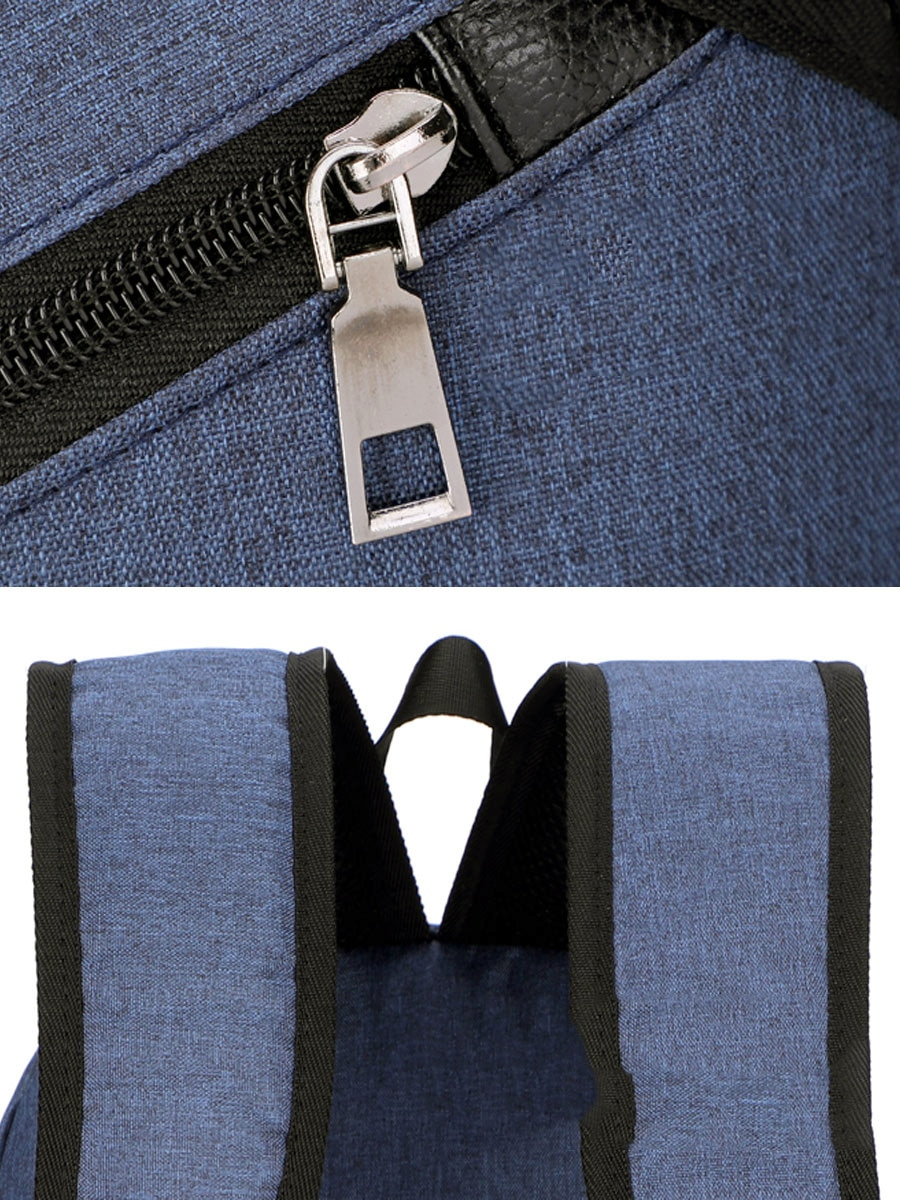Men's Backpacks: (1, 636, 900, 1200)
